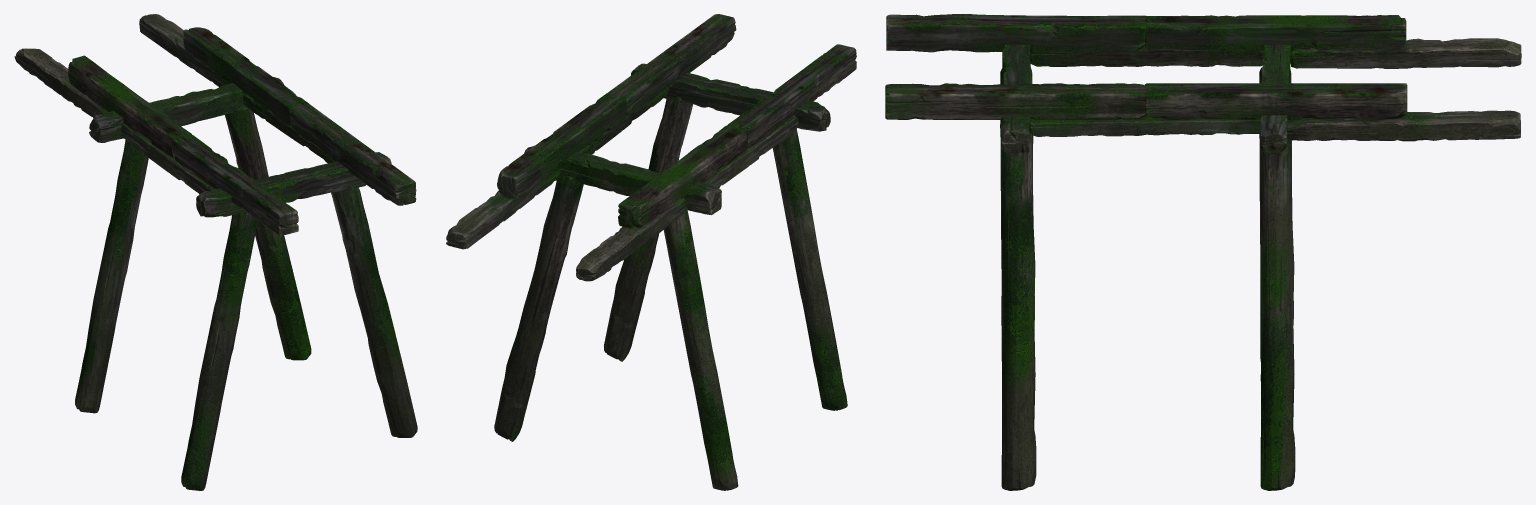
File: RailwayBase.fbx
3 renders of one model, left to right at view 1: azimuth 30°, elevation 25°; view 2: azimuth 150°, elevation 25°; view 3: azimuth 270°, elevation 25°, orthographic. The views are drawn at different scales.
Visible parts, largest first — view 1: RailwayBase_LOD0; view 2: RailwayBase_LOD0; view 3: RailwayBase_LOD0.
Boxes of the visible parts, <box> form: RailwayBase_LOD0: <box>14,14,417,490</box>; RailwayBase_LOD0: <box>446,14,856,490</box>; RailwayBase_LOD0: <box>885,14,1521,490</box>.
Size of what is drawn, in the model's own units: 2.8 by 5.42 by 3.5.
